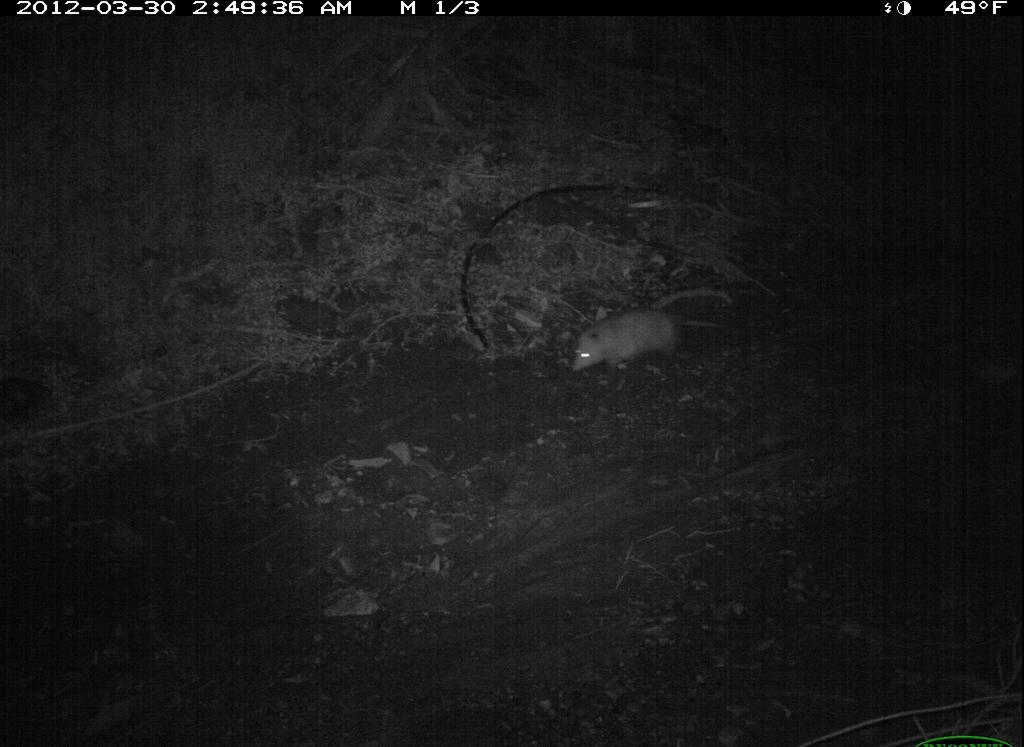opossum: (556, 294, 739, 381)
